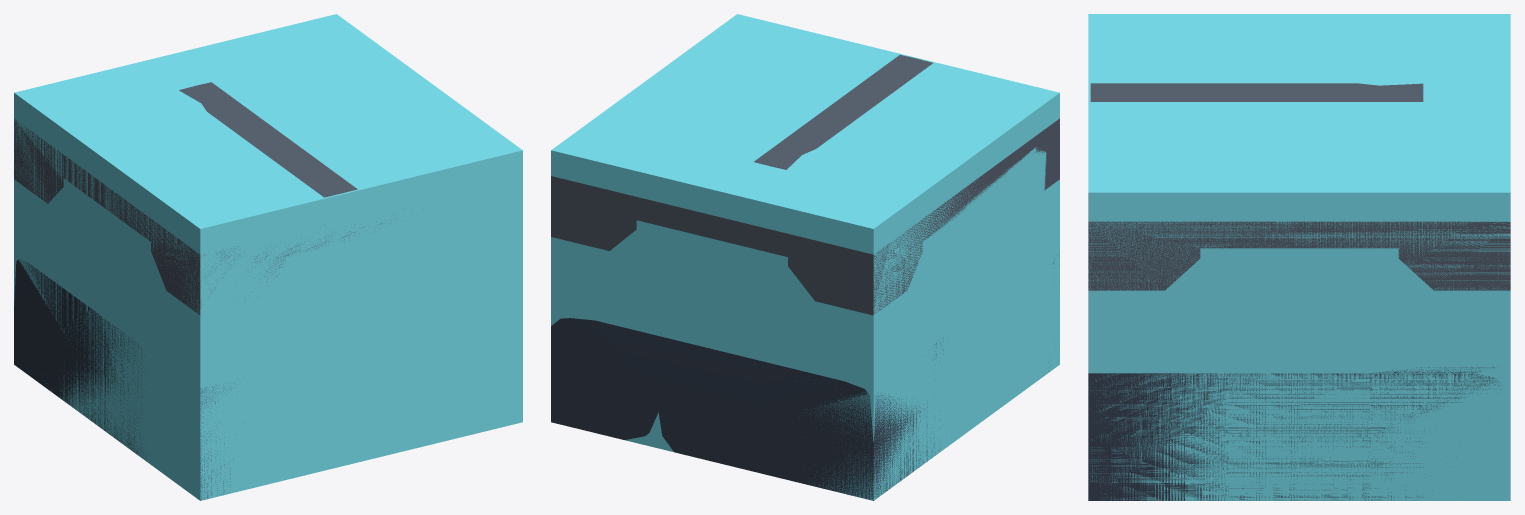
The model's file is PBOX33_MudFlA_02.FBX.
3 renders of one model, left to right at view 1: azimuth 30°, elevation 25°; view 2: azimuth 150°, elevation 25°; view 3: azimuth 270°, elevation 25°, orthographic. The views are drawn at different scales.
Parts seen in each view (by area): view 1: PBOX33_MudFlA_02, PBOX33_SUB_MudFlA_004, PBOX33_SUB_TAB_FlA_005; view 2: PBOX33_MudFlA_02, PBOX33_SUB_TAB_FlA_005, PBOX33_SUB_MudFlA_004; view 3: PBOX33_MudFlA_02, PBOX33_SUB_MudFlA_004, PBOX33_SUB_TAB_FlA_005.
Boxes of the visible parts, left/top/right/bottom form: PBOX33_MudFlA_02: left=14, top=14, right=522, bottom=500; PBOX33_SUB_MudFlA_004: left=14, top=82, right=393, bottom=315; PBOX33_SUB_TAB_FlA_005: left=14, top=259, right=233, bottom=500; PBOX33_MudFlA_02: left=551, top=14, right=1059, bottom=500; PBOX33_SUB_TAB_FlA_005: left=551, top=256, right=1059, bottom=500; PBOX33_SUB_MudFlA_004: left=551, top=55, right=1059, bottom=315; PBOX33_MudFlA_02: left=1088, top=14, right=1510, bottom=500; PBOX33_SUB_MudFlA_004: left=1088, top=83, right=1510, bottom=290; PBOX33_SUB_TAB_FlA_005: left=1088, top=367, right=1502, bottom=500.
Bounding box in the file's own units: 18 × 14.52 × 18.
